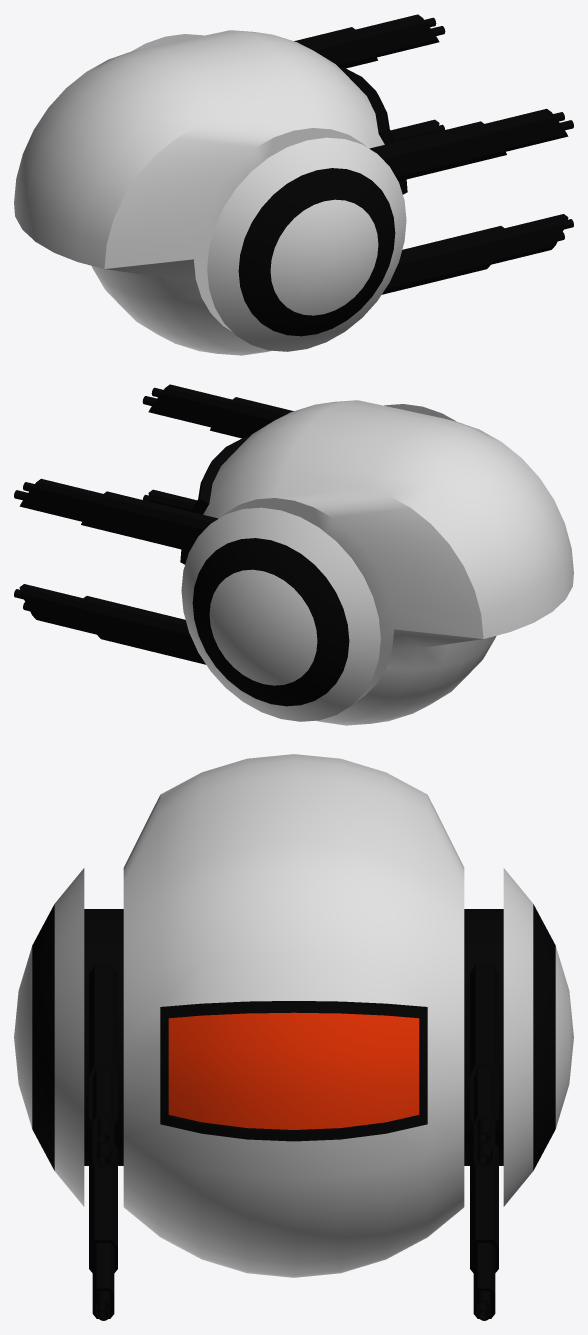
Rendered from DroneBlender.fbx.
3 renders of one model, top to bottom at view 1: azimuth 30°, elevation 25°; view 2: azimuth 150°, elevation 25°; view 3: azimuth 270°, elevation 25°, orthographic. The views are drawn at different scales.
Parts seen in each view (by area): view 1: Sphere, Cylinder.001; view 2: Sphere, Cylinder.001; view 3: Sphere, Cylinder.001.
Part boxes in pixels (x1,y1,x2,y2): Sphere: [14, 30, 407, 355]; Cylinder.001: [294, 14, 573, 294]; Sphere: [180, 400, 573, 725]; Cylinder.001: [14, 384, 293, 664]; Sphere: [14, 754, 573, 1277]; Cylinder.001: [89, 964, 498, 1320].
Bounding box in the file's own units: 335 × 200 × 233.
